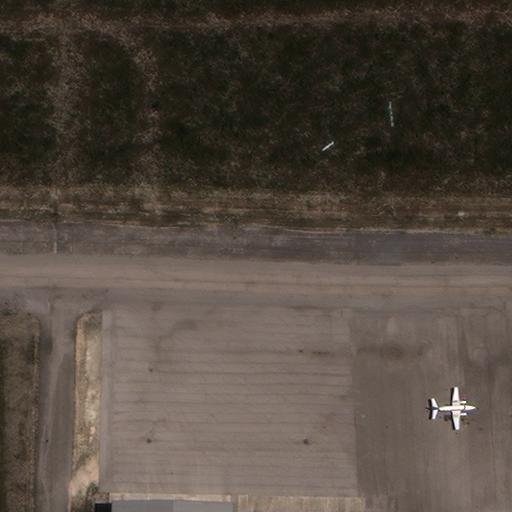Small Civil Transport: (428, 387, 477, 429)
